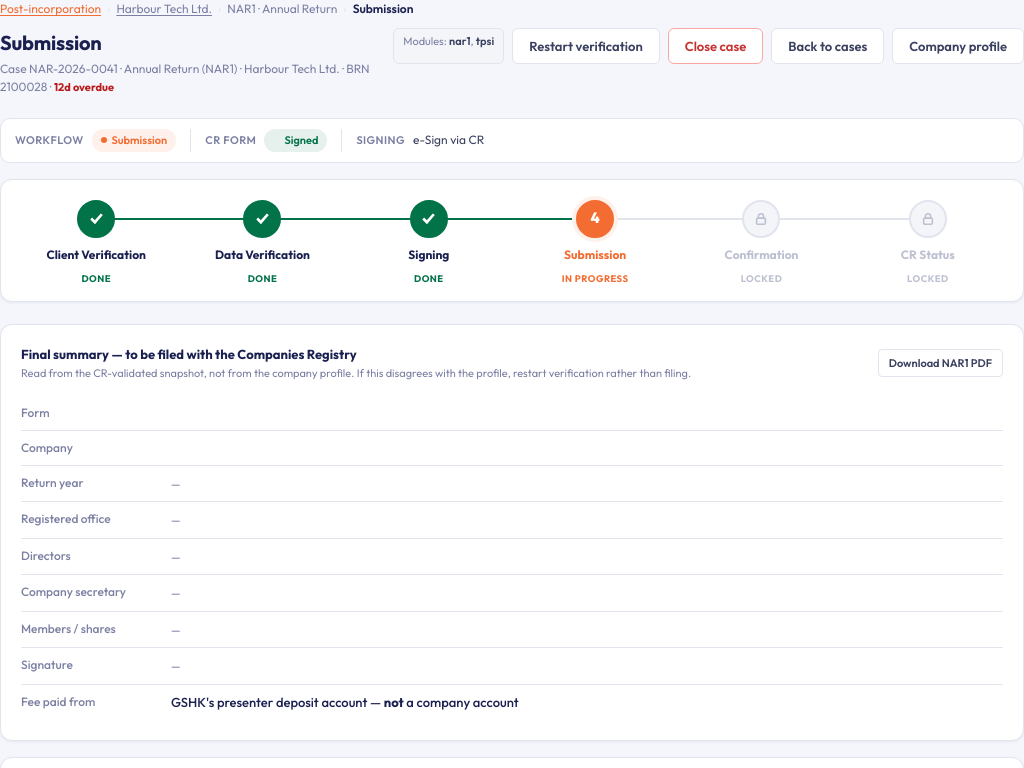
CaseWorkflowPage — restart verification › asks before discarding a CR-signed snapshot
Expected: the text "NAR-2026-0041" is shown, [29, 61, 118, 76]
What coordinates should you click on to do the following:
click the button "Restart verification"
I would click on:
 (586, 46)
Its box is [512, 28, 660, 64].
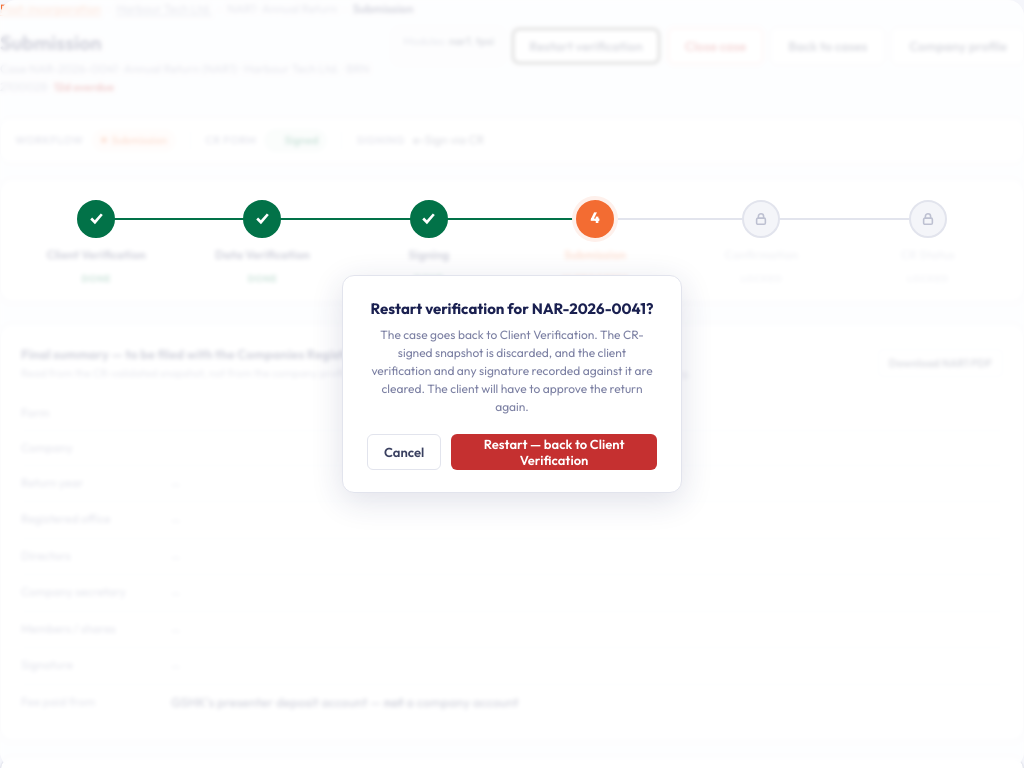
Expected: the dialog "Restart verification" is shown
What coordinates should you click on to do the following:
click the button "Cancel"
I would click on:
 (404, 452)
Its box is [367, 434, 441, 470].
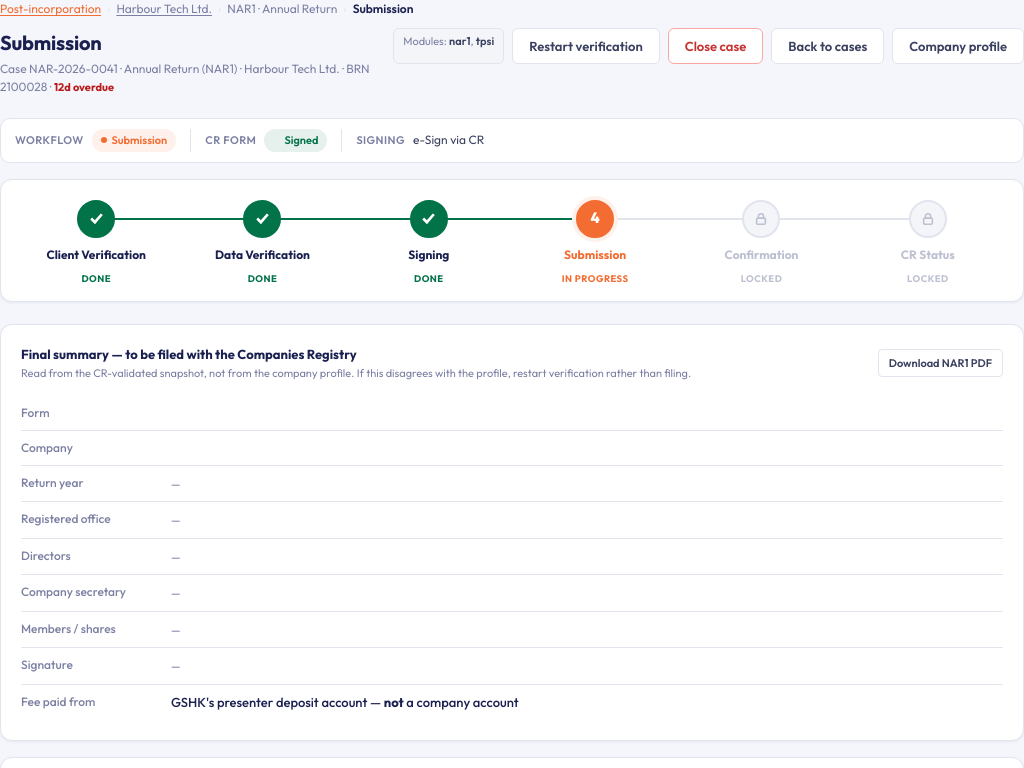
Expected: the dialog is gone
